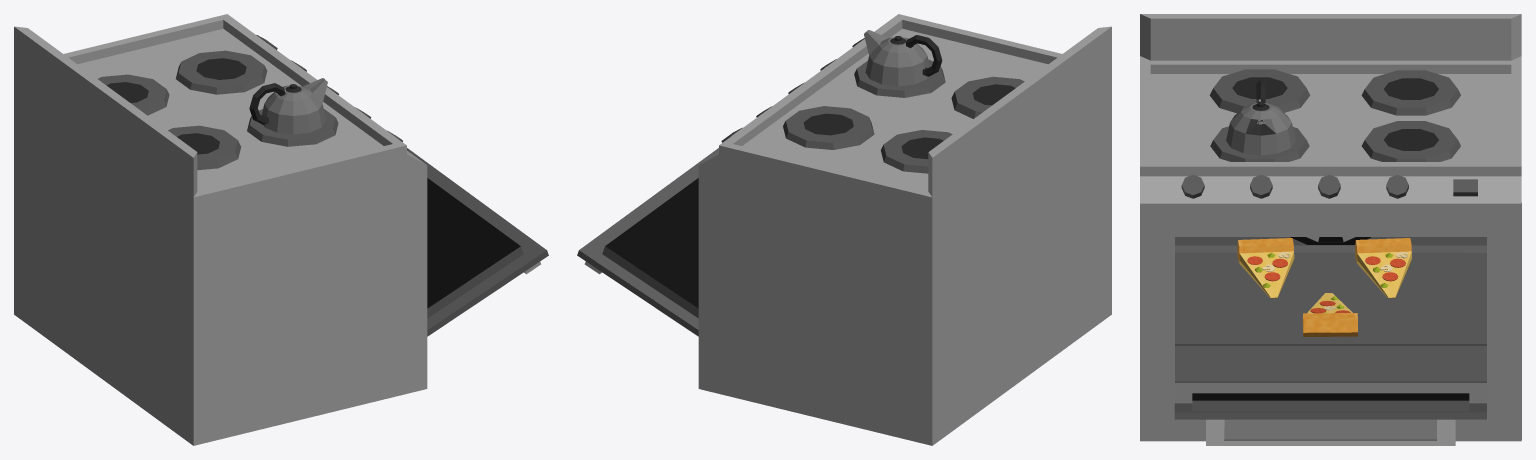
File: acıkfırın.fbx
3 renders of one model, left to right at view 1: azimuth 30°, elevation 25°; view 2: azimuth 150°, elevation 25°; view 3: azimuth 270°, elevation 25°, orthographic. The views are drawn at different scales.
Visible parts, largest first — view 1: Cube.014, Cube.095, Cylinder.003; view 2: Cube.014, Cube.095, Cylinder.003; view 3: Cube.014, Cube.095, Cylinder.003, Cylinder.034, Cylinder.037, Cylinder.036.
Part boxes in pixels (x1,y1,x2,y2): Cube.014: (14, 14, 427, 445); Cube.095: (407, 148, 548, 336); Cylinder.003: (249, 78, 327, 134); Cube.014: (698, 14, 1111, 445); Cube.095: (577, 148, 718, 336); Cylinder.003: (864, 30, 942, 86); Cube.014: (1140, 14, 1521, 441); Cube.095: (1174, 393, 1486, 445); Cylinder.003: (1226, 80, 1295, 155); Cylinder.034: (1237, 238, 1294, 298); Cylinder.037: (1355, 238, 1411, 298); Cylinder.036: (1302, 293, 1357, 336).
Size of the model in its own units: 1409 by 1024 by 1157.
7 materials, 7 textured.
